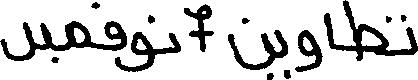X: (229, 13, 274, 79), (344, 0, 388, 65), (182, 0, 212, 56), (0, 17, 34, 65), (129, 10, 153, 76), (106, 16, 127, 75), (297, 25, 320, 76), (63, 16, 90, 55), (39, 18, 52, 66), (276, 25, 287, 79), (322, 8, 333, 61), (407, 22, 417, 59), (169, 28, 180, 57)
